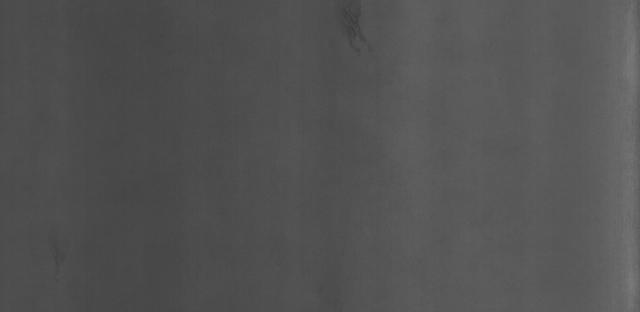water_spot: (328, 2, 378, 66)
